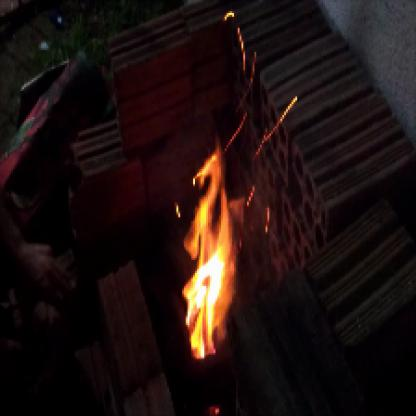Fire: (173, 126, 247, 370)
